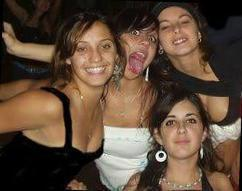Drunk: (70, 26, 117, 85), (157, 103, 205, 158), (119, 21, 158, 77), (158, 11, 199, 55)
